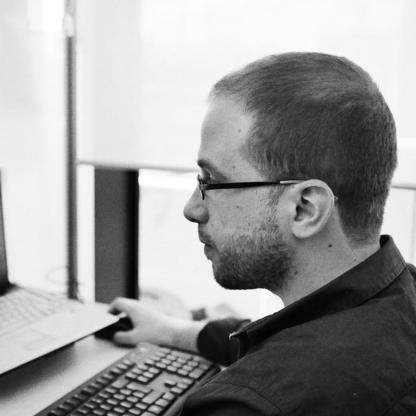board: (0, 166, 122, 378)
